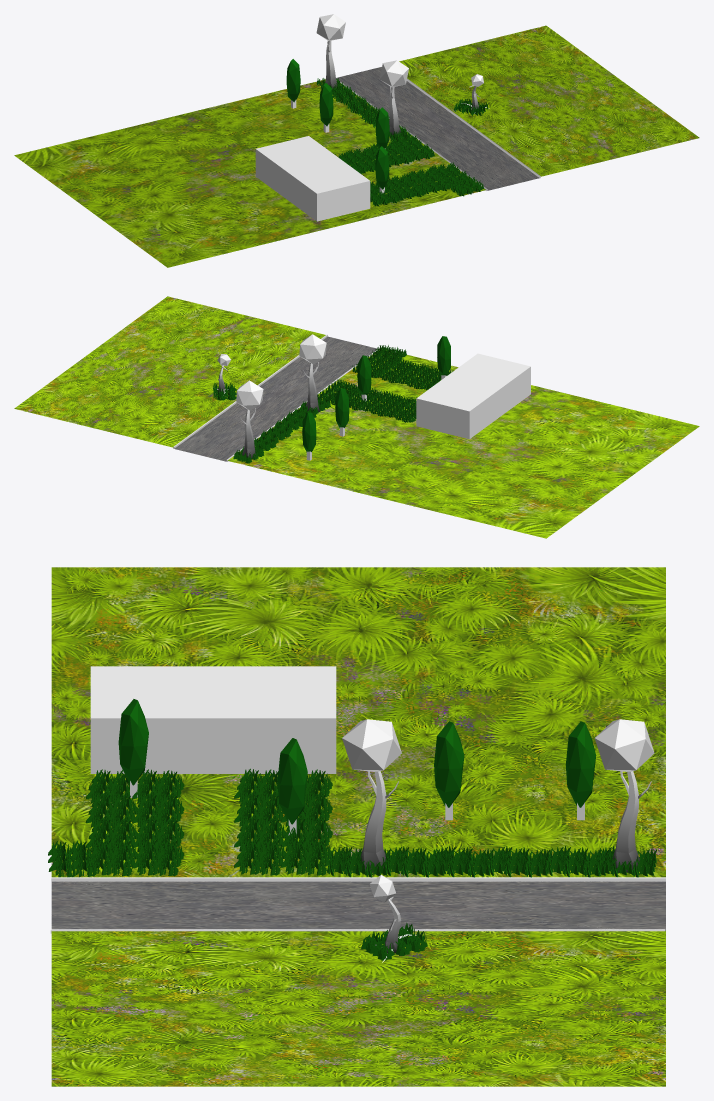
Rendered from Module_3_SM2.FBX.
3 views of the same model, one above another, from view 1: azimuth 30°, elevation 25°; view 2: azimuth 150°, elevation 25°; view 3: azimuth 270°, elevation 25° (orthographic). The views are drawn at different scales.
Parts seen in each view (by area): view 1: Module_3_SM2_LOD0; view 2: Module_3_SM2_LOD0; view 3: Module_3_SM2_LOD0.
Part boxes in pixels (<box>): Module_3_SM2_LOD0: <box>14,14,699,267</box>; Module_3_SM2_LOD0: <box>14,296,699,538</box>; Module_3_SM2_LOD0: <box>48,567,665,1086</box>.
Size of the model in its own units: 10003 by 5030 by 1459.
